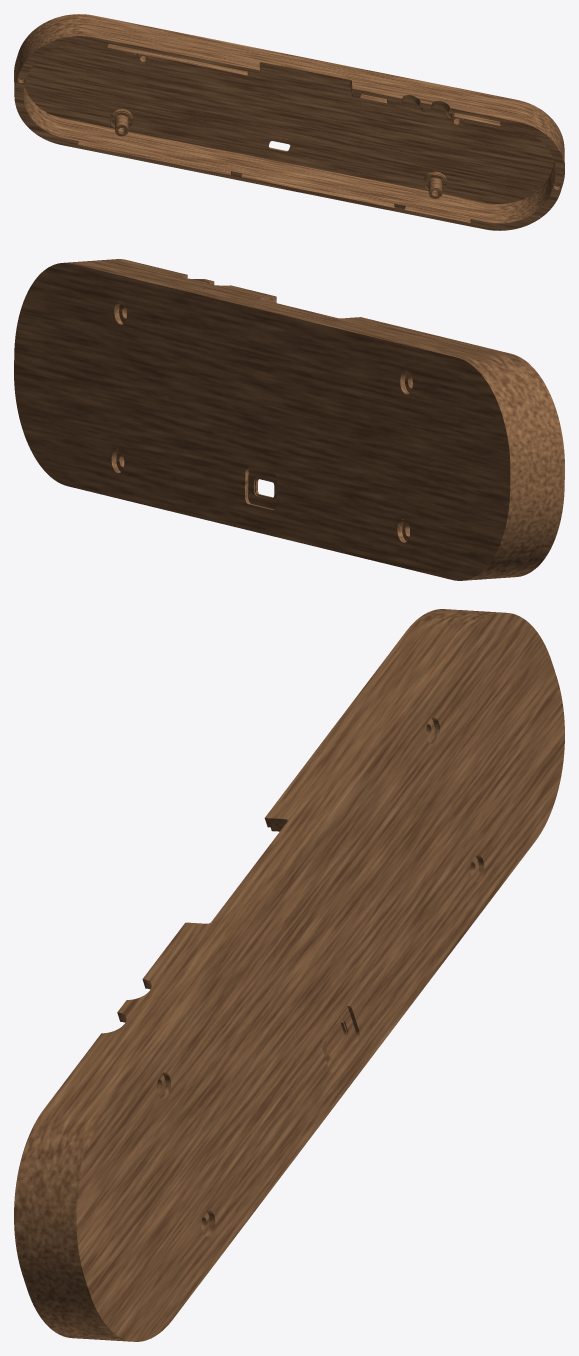
The model's file is rear_cover.glb.
The picture shows the model from 3 angles, top to bottom: view 1: azimuth 30°, elevation 25°; view 2: azimuth 150°, elevation 25°; view 3: azimuth 270°, elevation 25°; orthographic projection. The views are drawn at different scales.
Visible parts, largest first — view 1: rear_cover.001; view 2: rear_cover.001; view 3: rear_cover.001.
Boxes of the visible parts, x1,y1,x2,y2 form: rear_cover.001: [14, 14, 564, 230]; rear_cover.001: [14, 259, 564, 580]; rear_cover.001: [14, 609, 564, 1341].
Bounding box in the file's own units: 1.81 × 0.8636 × 1.04.
1 material, 1 textured.
